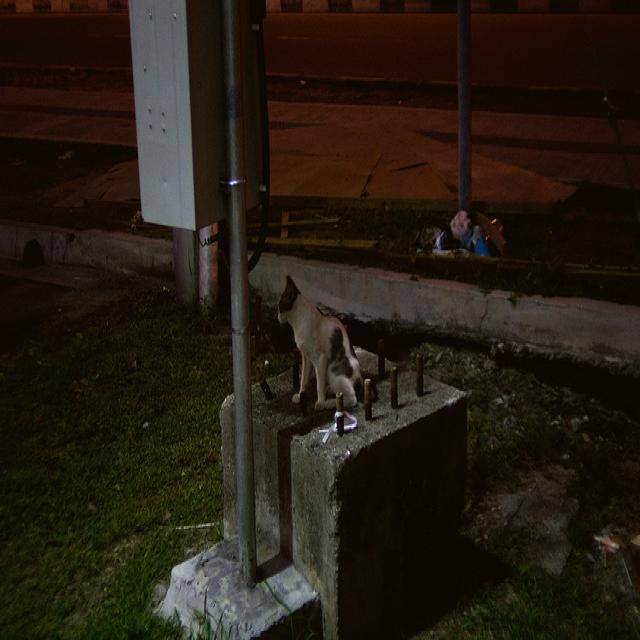Cat: (264, 265, 383, 428)
